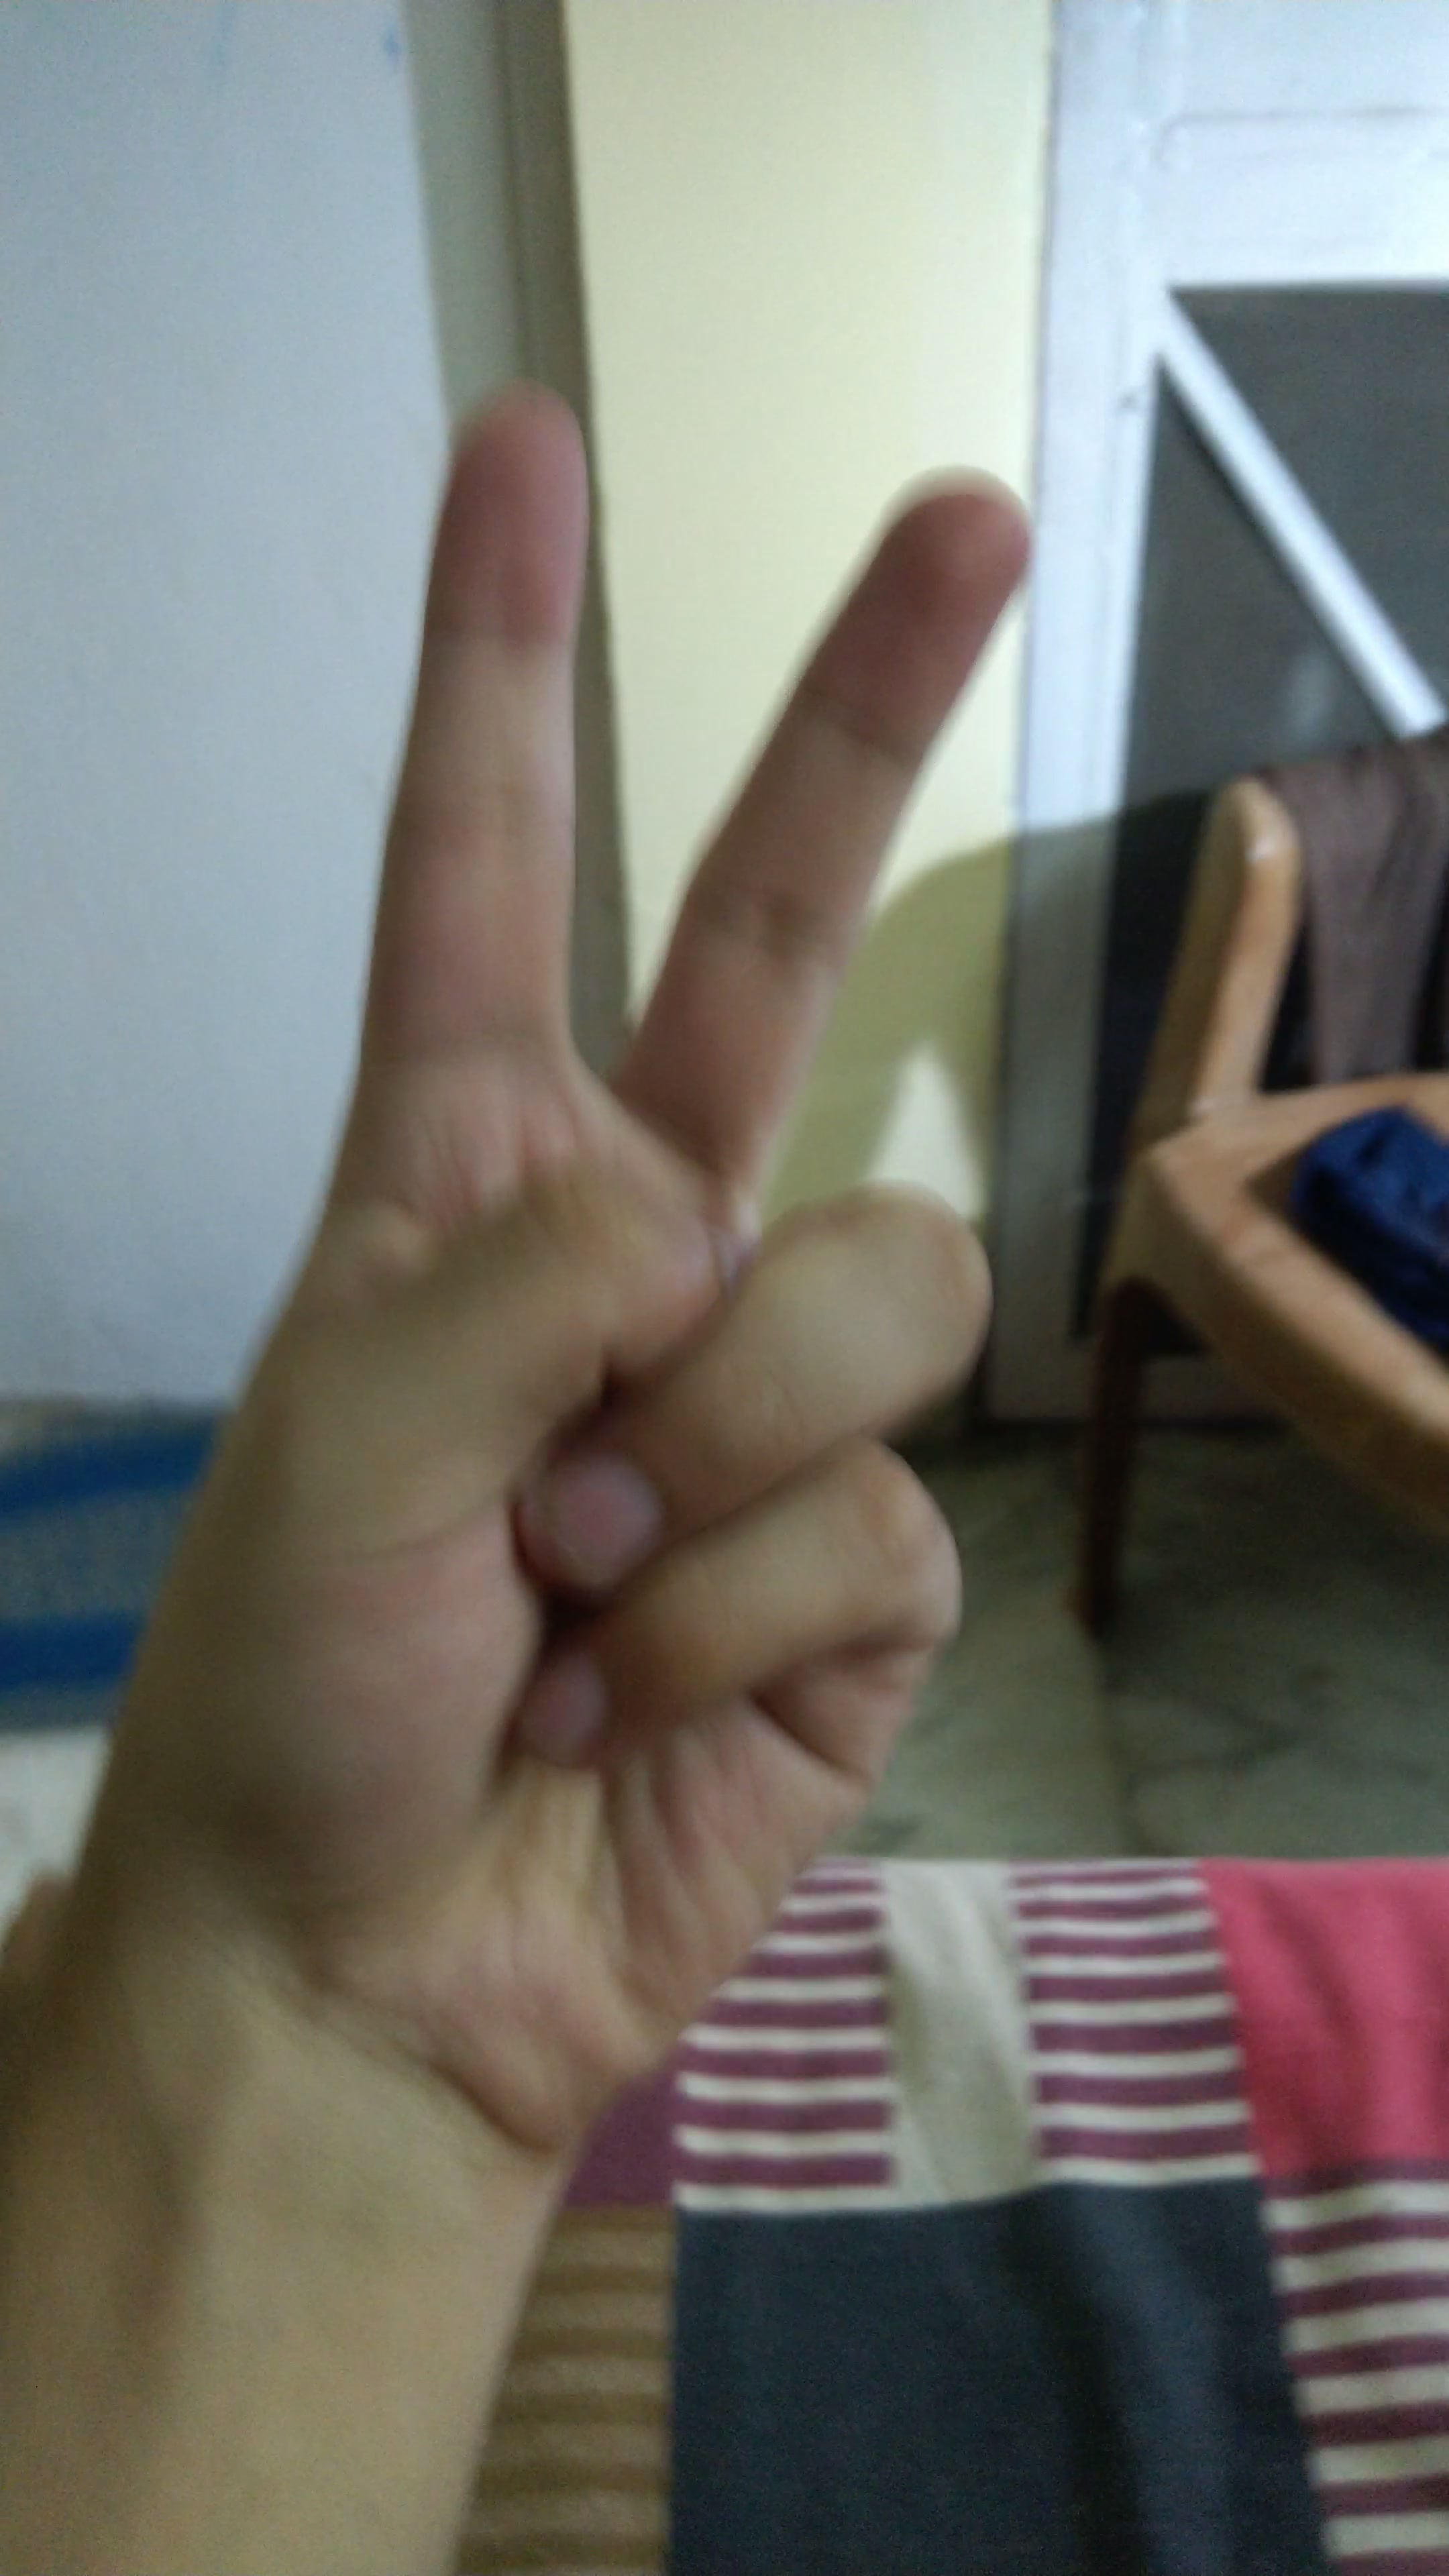hand: (80, 311, 1145, 2151)
